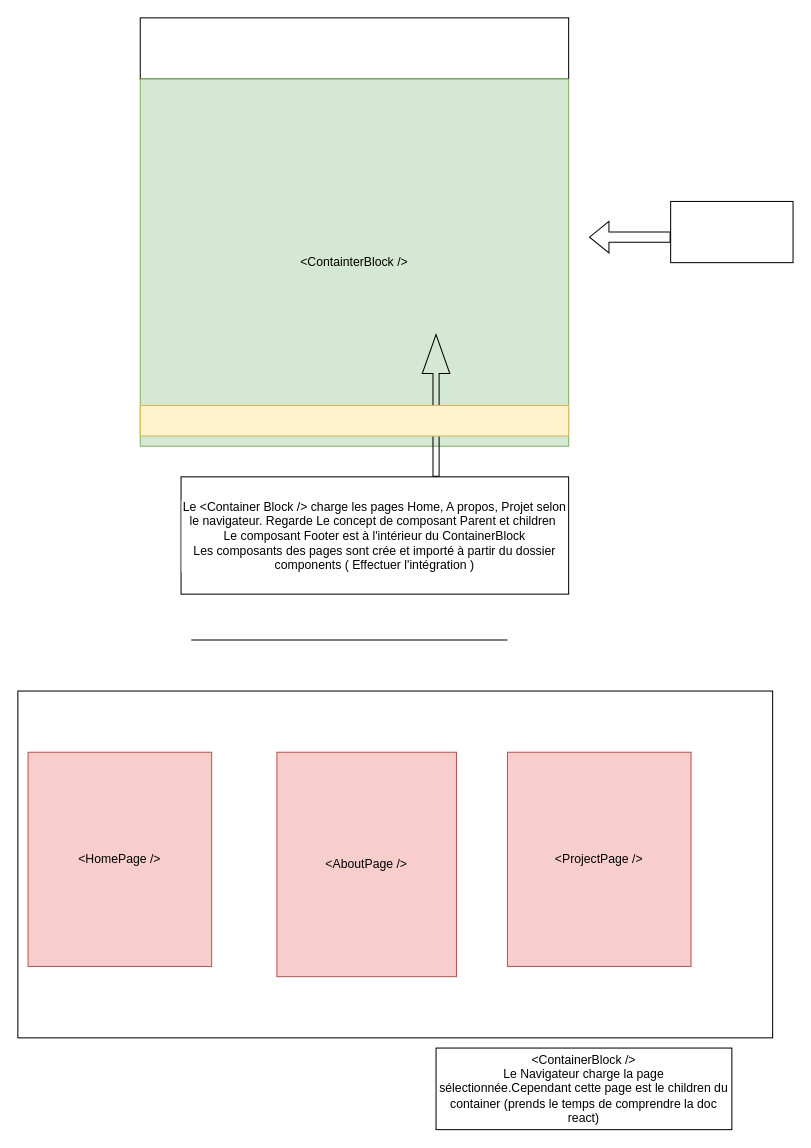
Image size: 811x1148. Some labels were removed from this diagram. The shapes that lost their labels are listed below. From the top down, each one's centre as x and y in pixels, then its label:
At [354,48]: "<Navigation />".
At [731,231]: "<App/>".
At [354,420]: "<Footer />".
